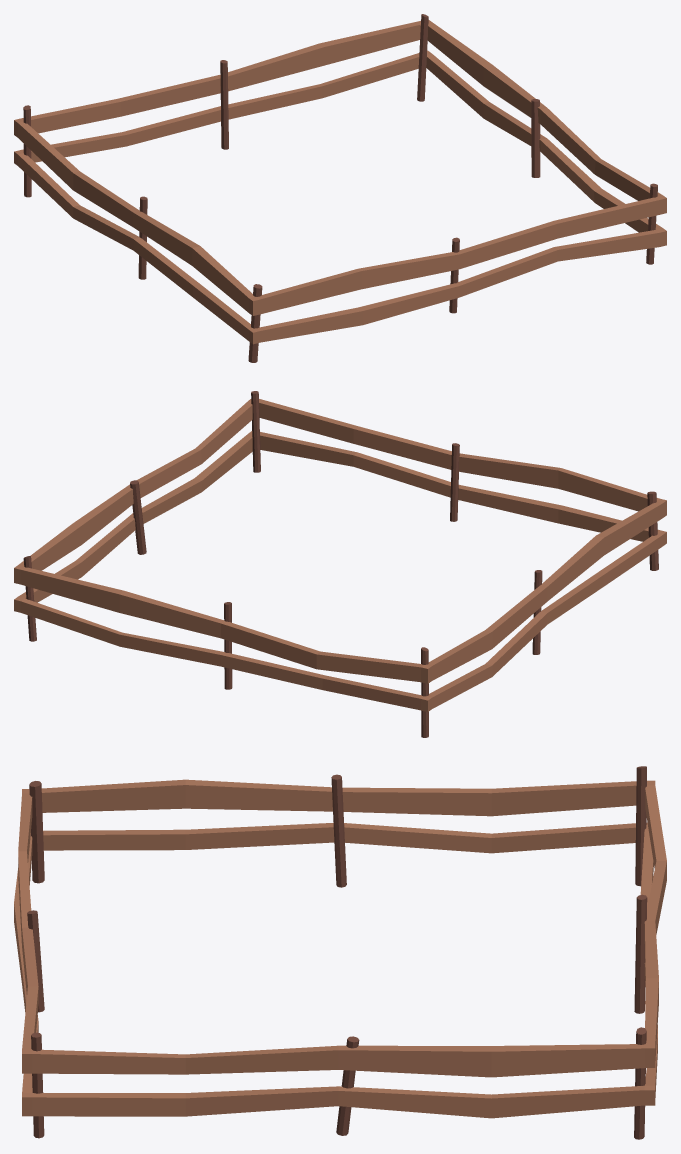
File: fence.glb
3 renders of one model, top to bottom at view 1: azimuth 30°, elevation 25°; view 2: azimuth 150°, elevation 25°; view 3: azimuth 270°, elevation 25°, orthographic. The views are drawn at different scales.
Visible parts, largest first — view 1: Fence; view 2: Fence; view 3: Fence.
Boxes of the visible parts, x1=… form: Fence: x1=14, y1=14, x2=666, y2=362; Fence: x1=14, y1=391, x2=666, y2=737; Fence: x1=14, y1=766, x2=666, y2=1139.
Bounding box in the file's own units: 122 × 24.68 × 124.
